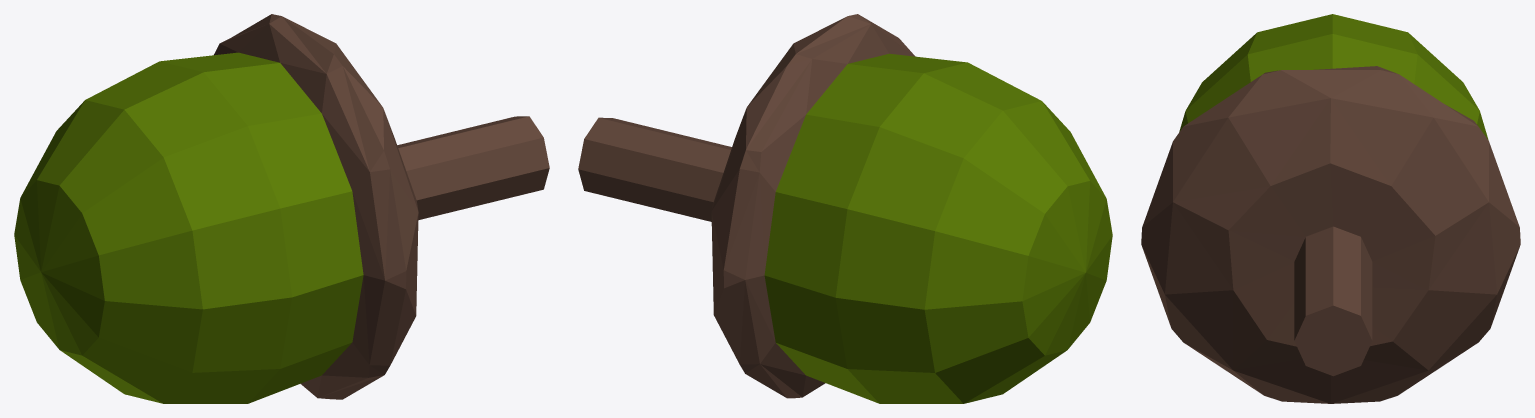
The model's file is Nez_6_1.FBX.
3 renders of one model, left to right at view 1: azimuth 30°, elevation 25°; view 2: azimuth 150°, elevation 25°; view 3: azimuth 270°, elevation 25°, orthographic. The views are drawn at different scales.
Parts seen in each view (by area): view 1: Sphere002; view 2: Sphere002; view 3: Sphere002.
Part boxes in pixels (x1,y1,x2,y2): Sphere002: (14,14,549,403); Sphere002: (578,14,1112,403); Sphere002: (1141,14,1520,403).
Bounding box in the file's own units: 27.75 × 18.74 × 19.44.
